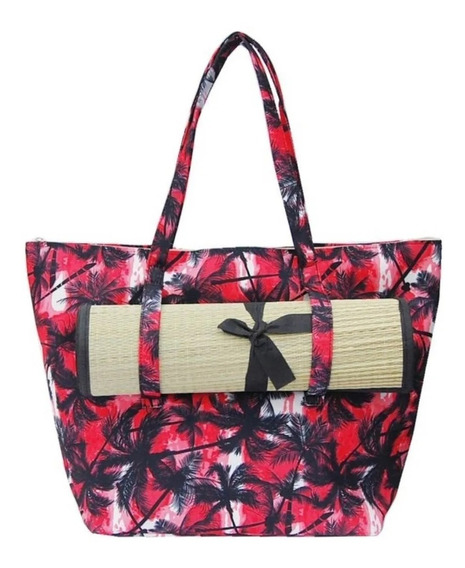cartera: (24, 29, 443, 540)
